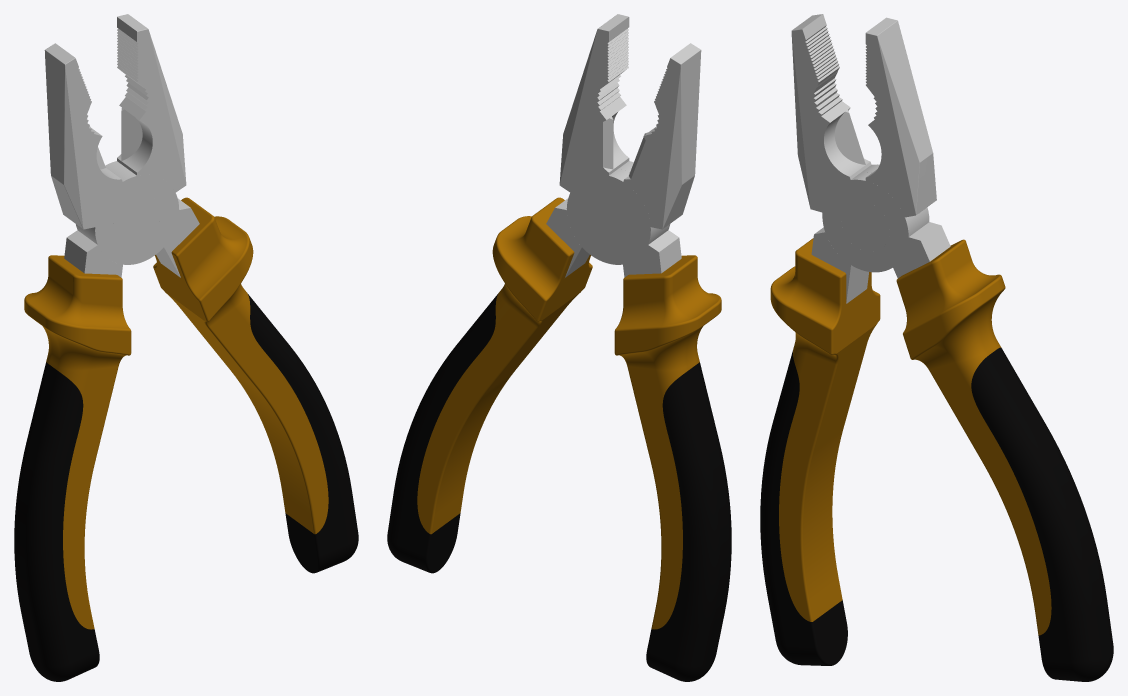
Rendered from Combination Pliers open 20 degrees.obj.
3 views of the same model, side by side, from view 1: azimuth 30°, elevation 25°; view 2: azimuth 150°, elevation 25°; view 3: azimuth 330°, elevation 25° (orthographic). The views are drawn at different scales.
Visible parts, largest first — view 1: Combination_Pliers_open_20_degrees; view 2: Combination_Pliers_open_20_degrees; view 3: Combination_Pliers_open_20_degrees.
Boxes of the visible parts, box(x1,y1,x2,y2) form: Combination_Pliers_open_20_degrees: box(14, 14, 358, 681); Combination_Pliers_open_20_degrees: box(387, 14, 731, 681); Combination_Pliers_open_20_degrees: box(760, 14, 1113, 681).
Bounding box in the file's own units: 84.74 × 156 × 21.
